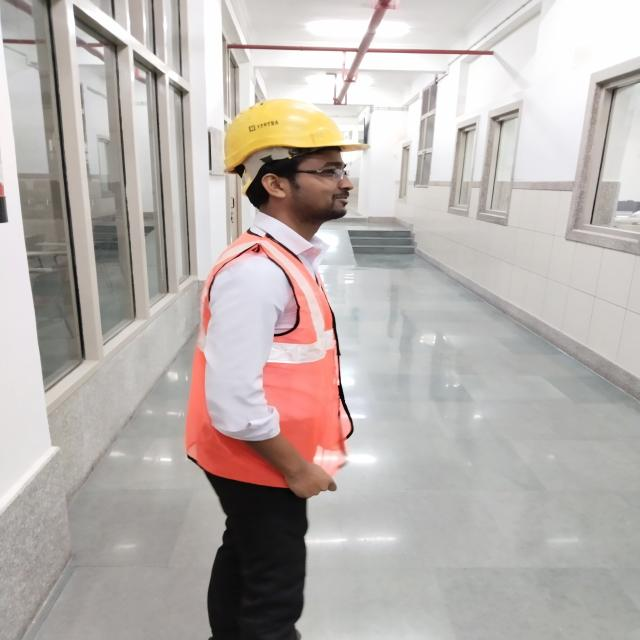safe: (191, 88, 373, 640)
